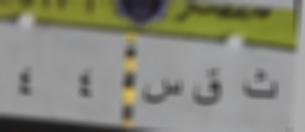4: (70, 65, 104, 102), (13, 64, 39, 100)
qaaf: (189, 62, 227, 111)
seen: (142, 72, 184, 106)
thaa: (233, 65, 286, 106)
